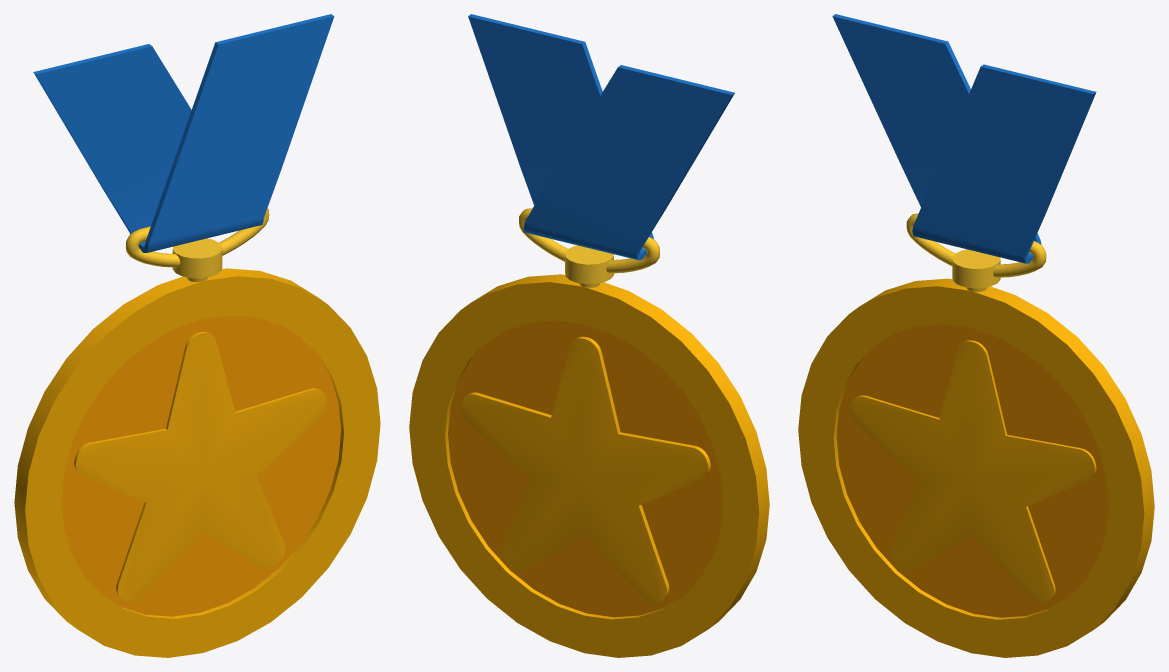
Rendered from sports_medal.glb.
3 views of the same model, side by side, from view 1: azimuth 30°, elevation 25°; view 2: azimuth 150°, elevation 25°; view 3: azimuth 330°, elevation 25° (orthographic). The views are drawn at different scales.
Visible parts, largest first — view 1: Circle.282; view 2: Circle.282; view 3: Circle.282.
Boxes of the visible parts, box(x1,y1,x2,y2) form: Circle.282: box(14, 14, 380, 657); Circle.282: box(409, 14, 769, 657); Circle.282: box(798, 14, 1154, 657).
Size of the model in its own units: 1.4 by 2.29 by 0.1711.
Materials: 1 (1 with a texture image).
